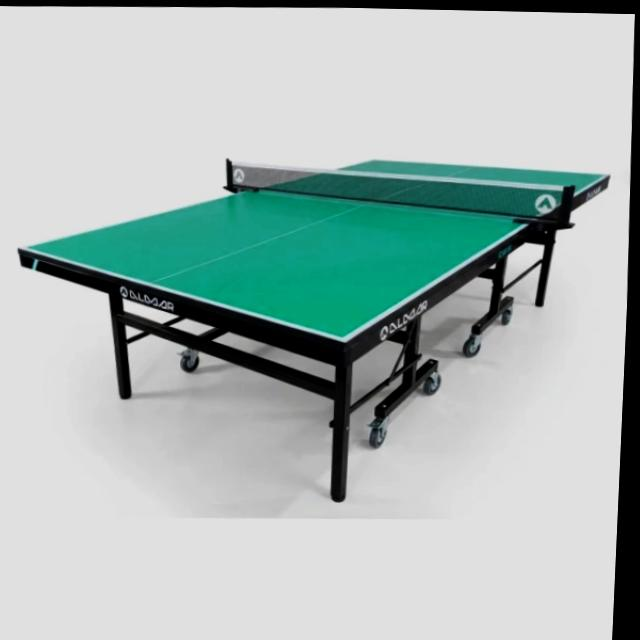TT Net: (225, 158, 576, 224)
TT Table: (18, 158, 609, 340)
